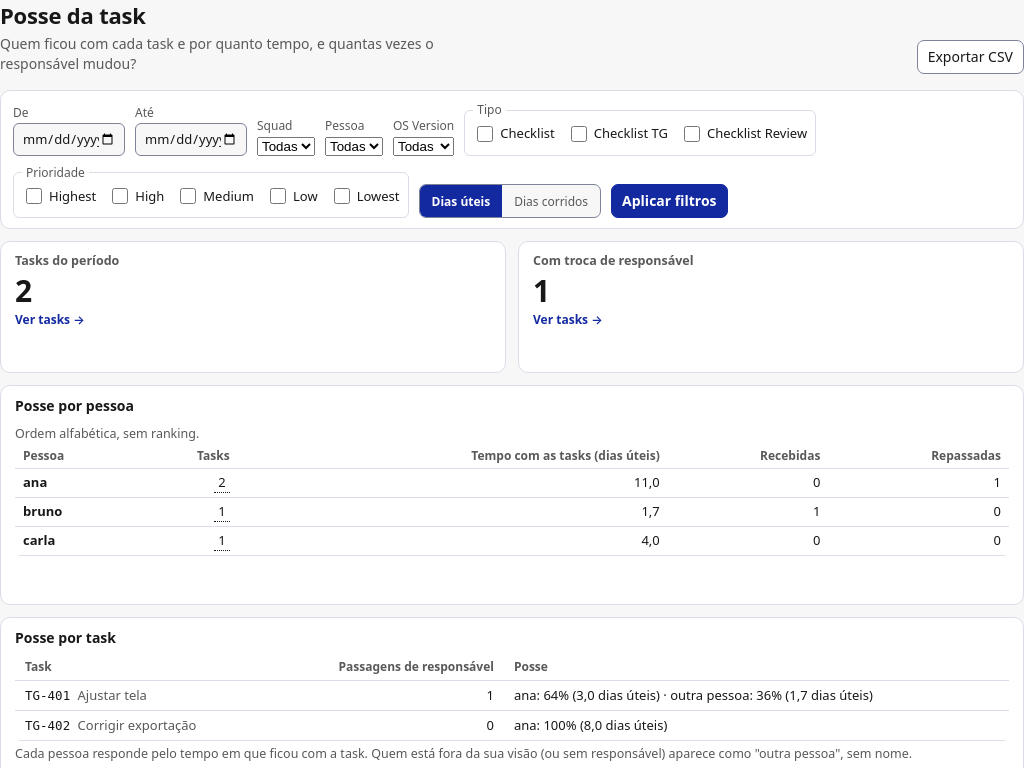
Test case: tela Posse da task › kpiComTrocaDeResponsavelAbreAGaveta
Expected: the heading "Tasks do período" is shown, [15, 252, 119, 269]
Click the button named "Com troca de responsável".
click(561, 320)  # box [533, 274, 1009, 329]
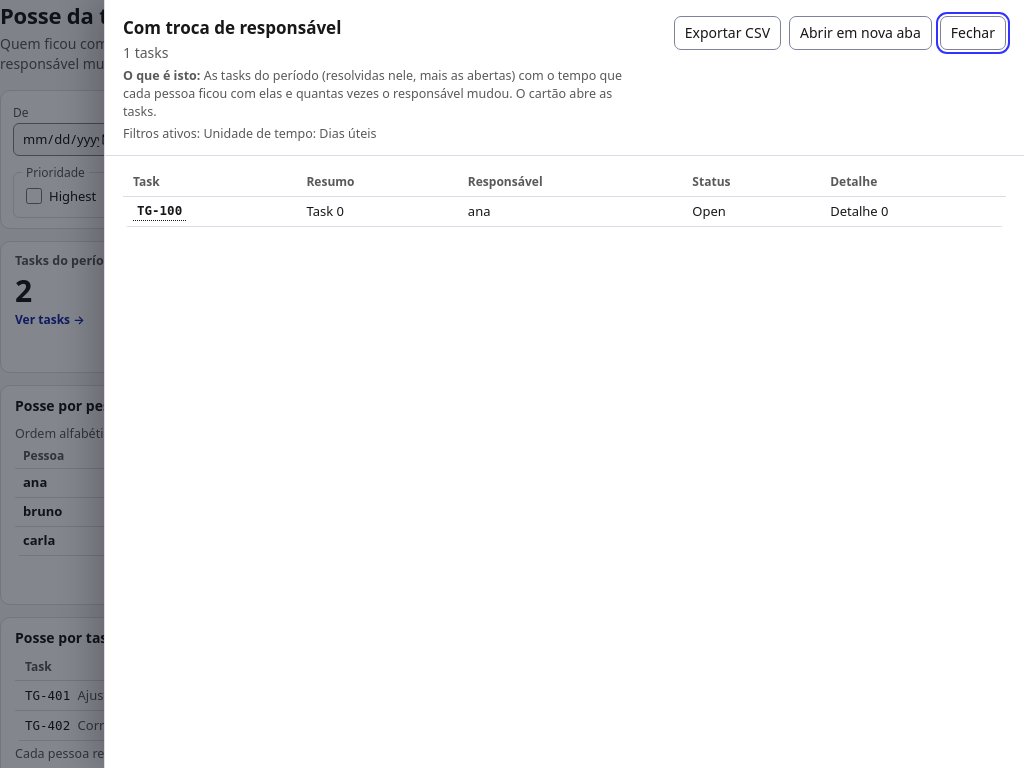
Now the dialog is shown
